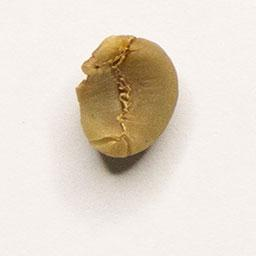defect: (72, 30, 182, 163)
